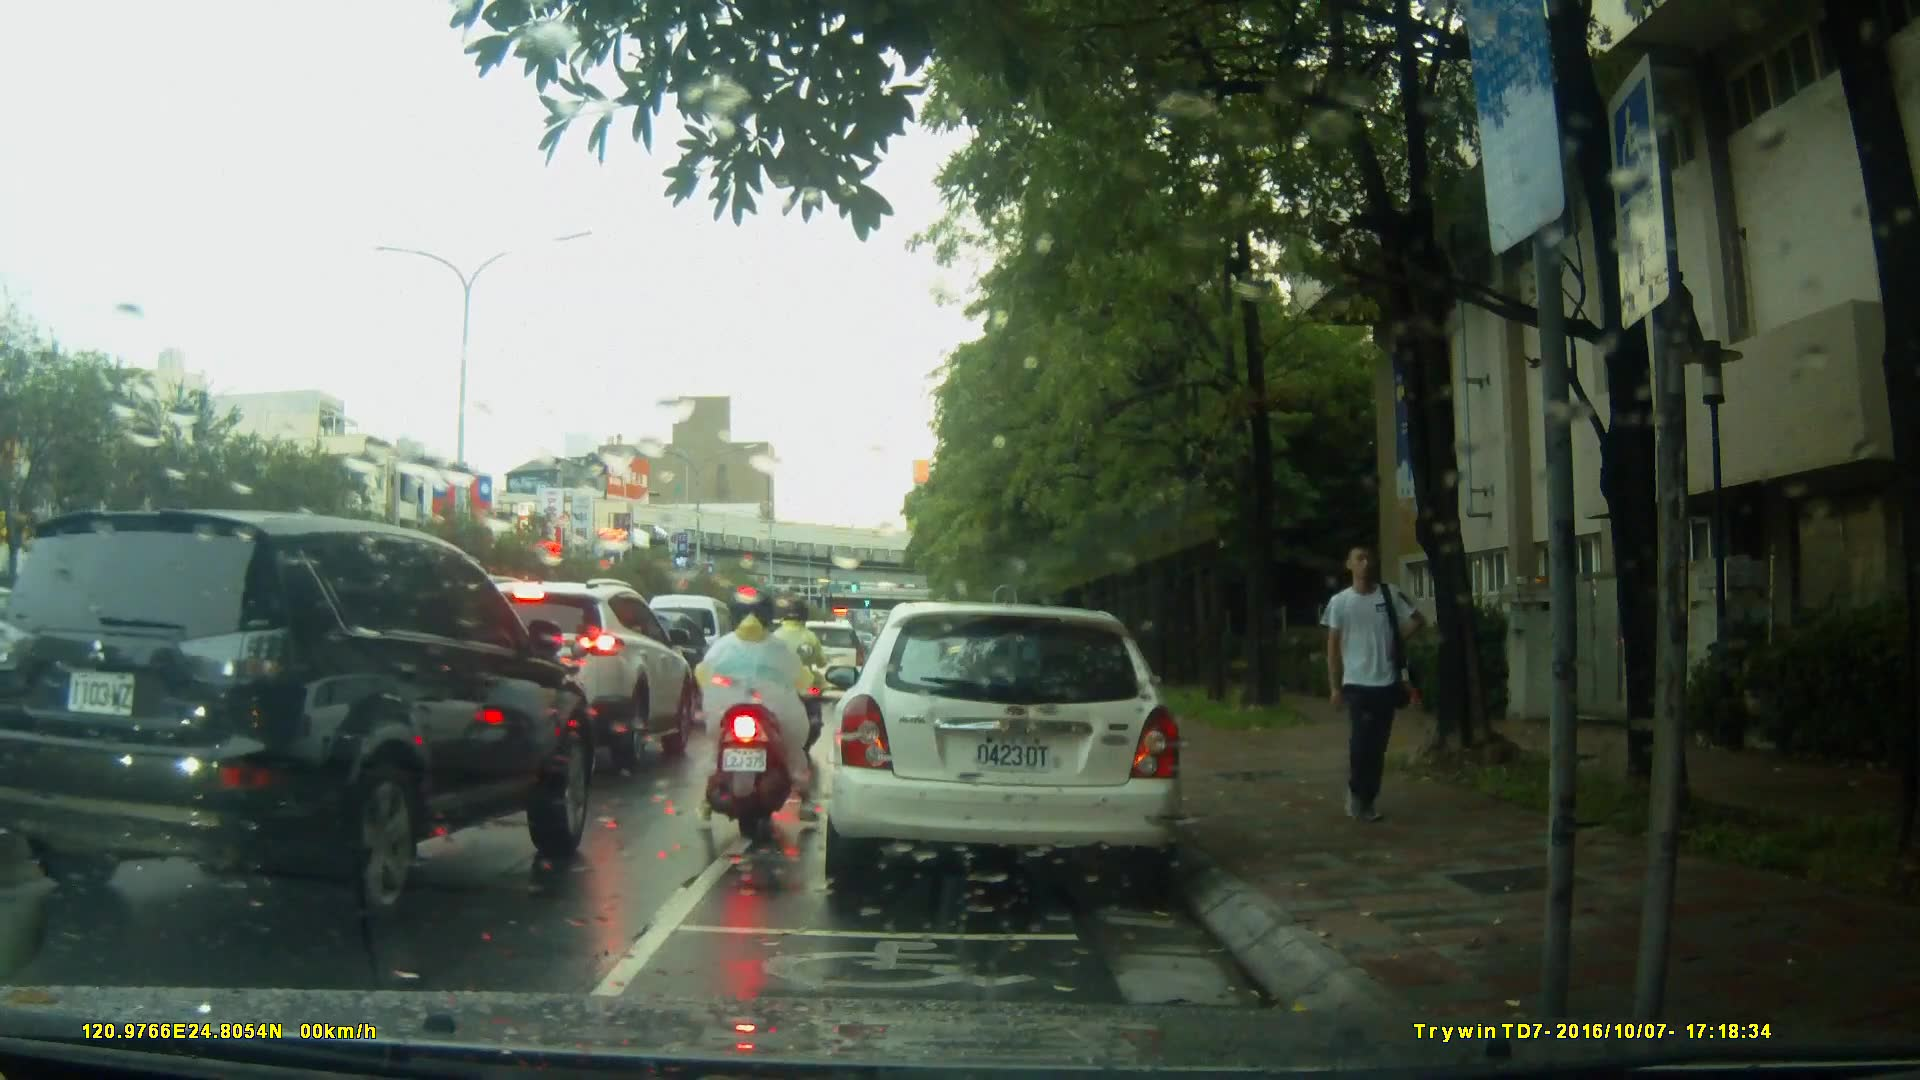pedestrian: (1307, 539, 1422, 835)
rider: (691, 597, 816, 837), (758, 598, 834, 753)
vehicle: (5, 509, 604, 919), (820, 602, 1188, 898), (417, 574, 700, 767), (636, 592, 747, 709), (772, 618, 870, 705)
